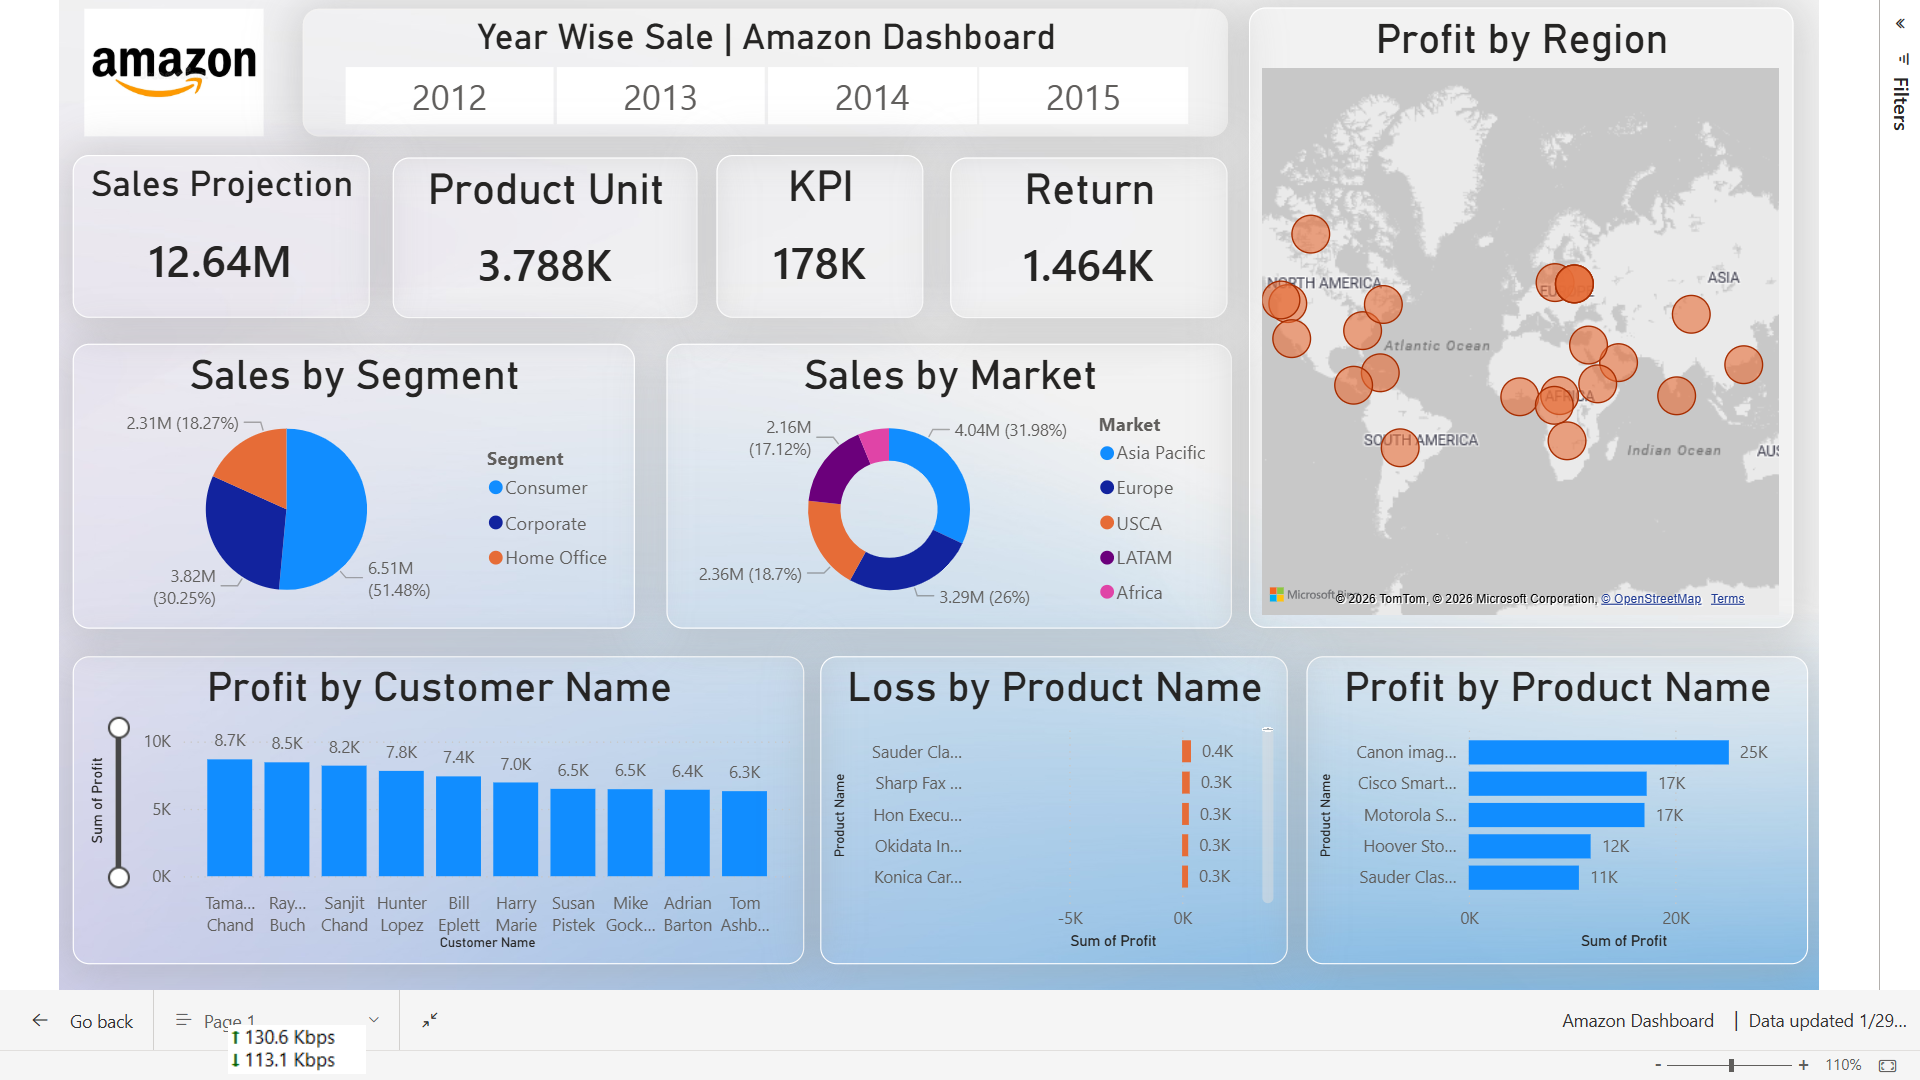

The dashboard page shown, as its layout file describes it:
{"tool":"powerbi","page":{"name":"Page 1","canvas":[1280,720],"ordinal":0},"visuals":[{"type":"image","box":[0,0,1280,720],"z":0},{"type":"image","box":[0,6.2,167.5,92.5],"z":1000},{"type":"slicer","title":"Year Wise Sale | Amazon Dashboard","fields":{"Values":["Orders.Year"]},"box":[177.3,6.1,672.6,92.9],"z":2000},{"type":"cardVisual","title":"Sales Projection","fields":{"Data":["Orders.Sales"]},"box":[10,112.9,215.7,118.6],"z":3000},{"type":"cardVisual","title":"Product Unit","fields":{"Data":["Orders.Product Name"]},"box":[242.9,114.3,221.4,117.1],"z":4000},{"type":"cardVisual","title":"KPI","fields":{"Data":["Orders.Quantity"]},"box":[478.6,112.9,150,118.6],"z":5000},{"type":"cardVisual","title":"Return","fields":{"Data":["Orders.Ship Date"]},"box":[648.6,114.3,201.4,117.1],"z":6000},{"type":"columnChart","title":"Profit by Customer Name","fields":{"Category":["Orders.Customer Name"],"Y":["Orders.Profit"]},"box":[9.8,476.9,531.9,223.8],"z":7000},{"type":"donutChart","title":"Sales by Market","fields":{"Y":["Orders.Sales"],"Category":["Orders.Market"]},"box":[441.4,250,411.4,207.1],"z":8000},{"type":"pieChart","title":"Sales by Segment","fields":{"Category":["Orders.Segment"],"Y":["Orders.Sales"]},"box":[10,250,408.6,207.1],"z":9000},{"type":"clusteredBarChart","title":"Loss by Product Name","fields":{"Category":["Orders.Product Name"],"Y":["Orders.Profit"]},"box":[553.9,476.9,339.9,223.8],"z":10000},{"type":"clusteredBarChart","title":"Profit by Product Name","fields":{"Y":["Orders.Profit"],"Category":["Orders.Product Name"]},"box":[907.3,476.9,364.4,223.8],"z":10001},{"type":"map","title":"Profit by Region","fields":{"Category":["People.Region"],"Size":["Orders.Sales"]},"box":[865.7,5.7,395.7,451.4],"z":10002}]}

Visuals, with their boxes on the page's 1280x720 design canvas (x1, y1, x2, y2). These are canvas units, not pixel positions in the 1920x1080 screenshot, which may show the page scaled, cropped or inside an application window:
image: <bbox>0, 0, 1280, 720</bbox>
image: <bbox>0, 6, 168, 99</bbox>
"Year Wise Sale | Amazon Dashboard" slicer: <bbox>177, 6, 850, 99</bbox>
"Sales Projection" cardVisual: <bbox>10, 113, 226, 232</bbox>
"Product Unit" cardVisual: <bbox>243, 114, 464, 231</bbox>
"KPI" cardVisual: <bbox>479, 113, 629, 232</bbox>
"Return" cardVisual: <bbox>649, 114, 850, 231</bbox>
"Profit by Customer Name" columnChart: <bbox>10, 477, 542, 701</bbox>
"Sales by Market" donutChart: <bbox>441, 250, 853, 457</bbox>
"Sales by Segment" pieChart: <bbox>10, 250, 419, 457</bbox>
"Loss by Product Name" clusteredBarChart: <bbox>554, 477, 894, 701</bbox>
"Profit by Product Name" clusteredBarChart: <bbox>907, 477, 1272, 701</bbox>
"Profit by Region" map: <bbox>866, 6, 1261, 457</bbox>
